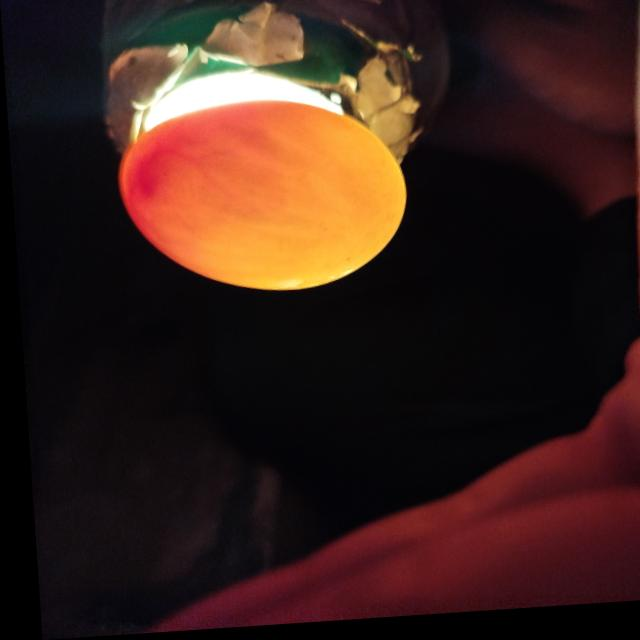Gema Quebrada: (124, 103, 305, 232)
